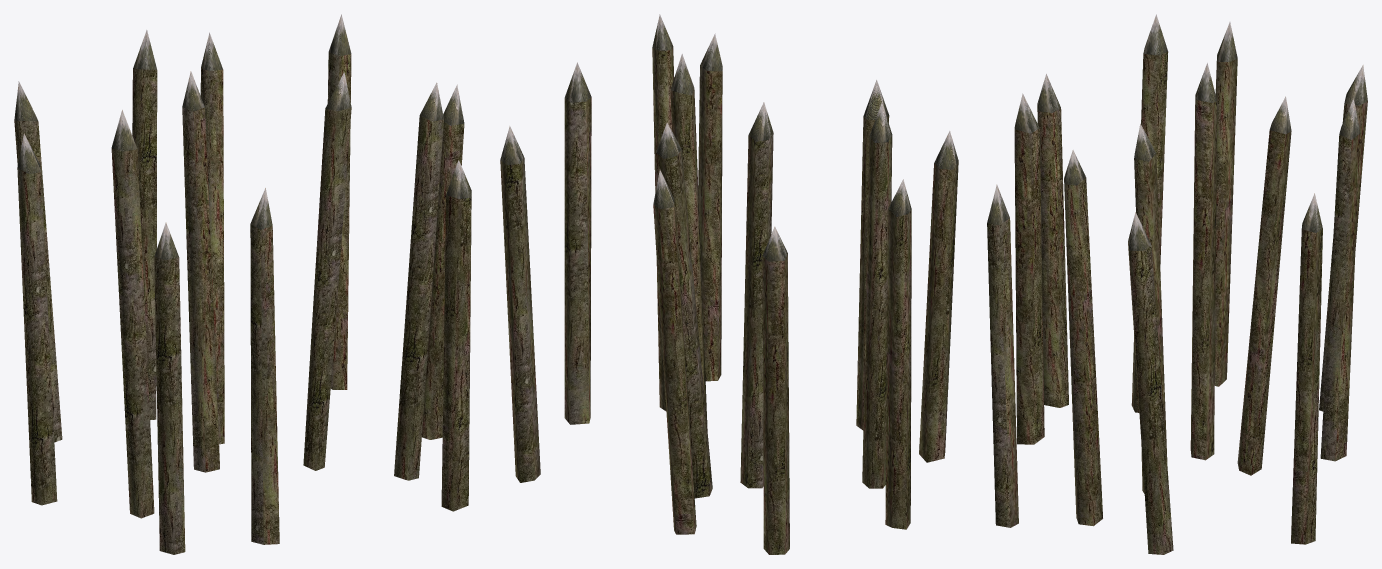
The model's file is KM_VOB_PIT_01.glb.
3 renders of one model, left to right at view 1: azimuth 30°, elevation 25°; view 2: azimuth 150°, elevation 25°; view 3: azimuth 270°, elevation 25°, orthographic. The views are drawn at different scales.
Parts seen in each view (by area): view 1: Mesh; view 2: Mesh; view 3: Mesh.
Part boxes in pixels (x1,y1,x2,y2): Mesh: (14, 14, 471, 554); Mesh: (500, 14, 958, 554); Mesh: (987, 14, 1367, 554).
Size of the model in its own units: 1.4 by 1.35 by 1.19.
2 materials, 2 textured.
